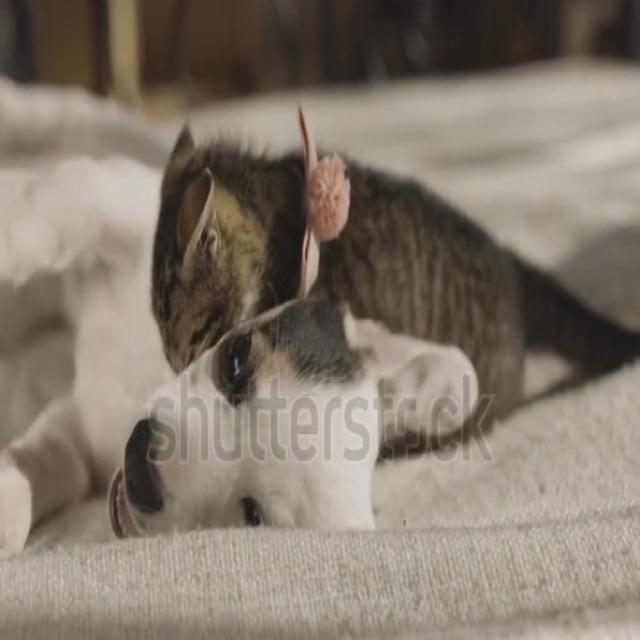normal_animals: (28, 81, 558, 601)
